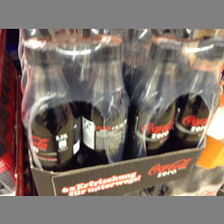soda: (20, 37, 82, 172), (82, 34, 131, 166), (130, 36, 178, 158), (176, 36, 224, 148)
